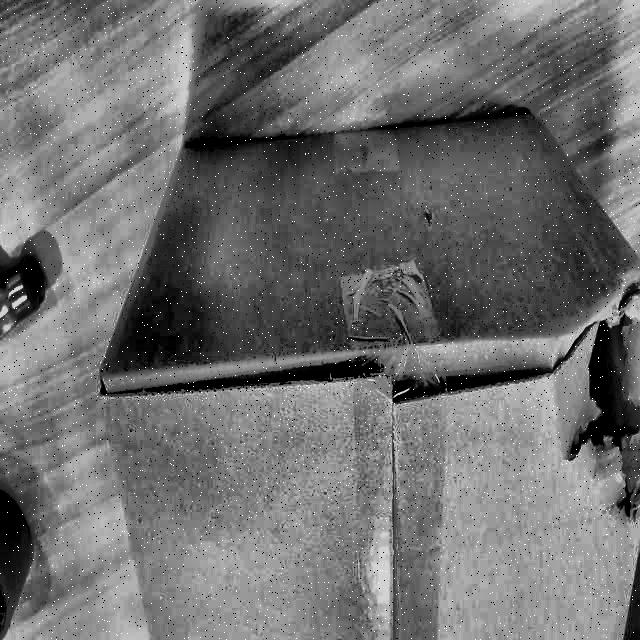box: (88, 107, 640, 640)
hole: (561, 305, 639, 513)
